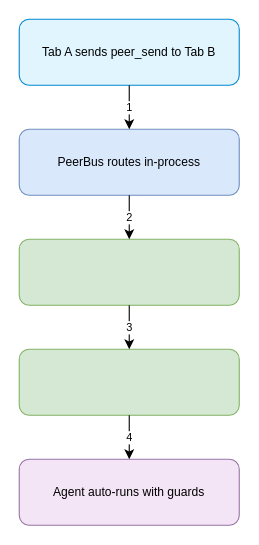
The diagram is 259 pixels wide and 545 high, and some of its shapes have lost their labels. Each missing label, with the centre of its shape:
"Badge/indicator shows on Tab B header" belongs at (128,271).
"Transcript inserts [Peer inbound] from Tab A" belongs at (128,381).
